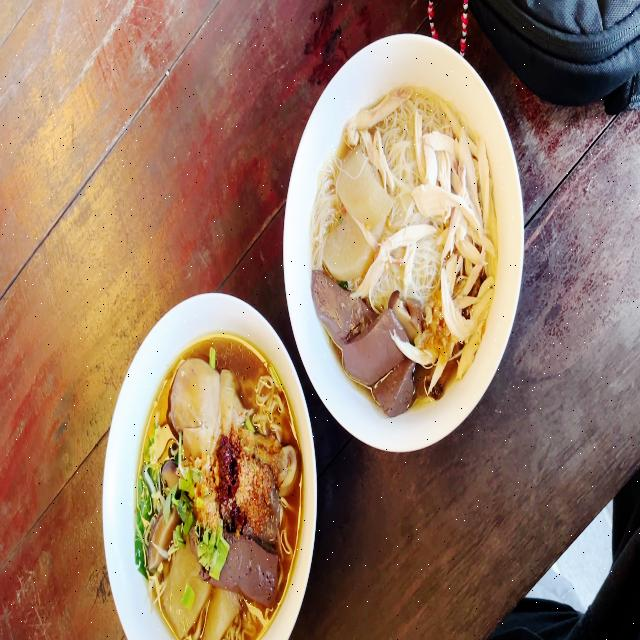boiled_chicken_blood_jelly: (312, 268, 366, 347), (221, 538, 281, 598), (350, 304, 396, 371), (375, 358, 415, 412)
chicken_drumstick: (167, 360, 298, 479)
chicken_shredded: (412, 108, 499, 384), (356, 213, 439, 285), (344, 82, 408, 142), (360, 130, 396, 182)
daikon_radish: (335, 150, 393, 240), (162, 554, 210, 629), (326, 212, 363, 274), (204, 587, 240, 640)
noodle: (314, 74, 488, 391), (135, 332, 298, 640)
